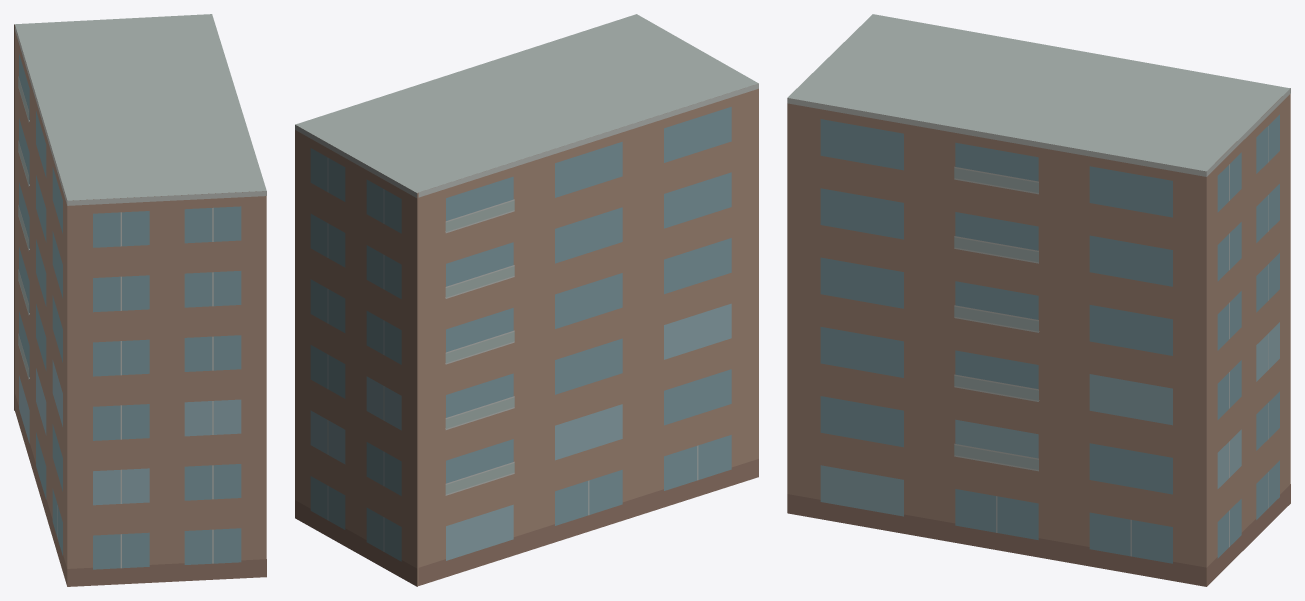
Rendered from survey-upis-33009214.glb.
The picture shows the model from 3 angles, left to right: view 1: azimuth 30°, elevation 25°; view 2: azimuth 150°, elevation 25°; view 3: azimuth 270°, elevation 25°; orthographic projection. The views are drawn at different scales.
Parts seen in each view (by area): view 1: survey-upis-33009214.tmp; view 2: survey-upis-33009214.tmp; view 3: survey-upis-33009214.tmp.
Part boxes in pixels (x1,y1,x2,y2): survey-upis-33009214.tmp: (14, 14, 266, 586); survey-upis-33009214.tmp: (295, 14, 758, 586); survey-upis-33009214.tmp: (787, 14, 1290, 586).
Bounding box in the file's own units: 14.88 × 18.3 × 20.11.
